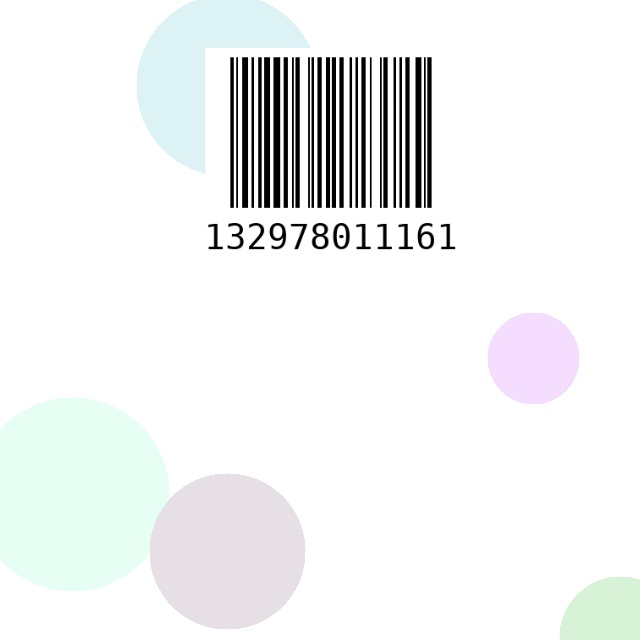barcode: (205, 48, 457, 285)
